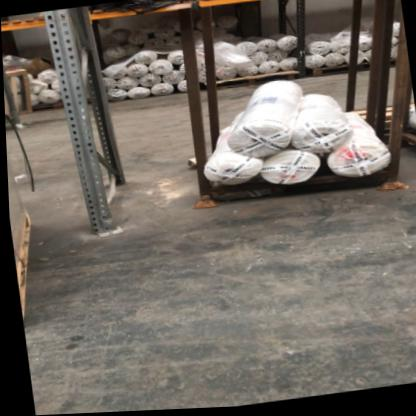vertical_damage: (84, 211, 126, 243)
